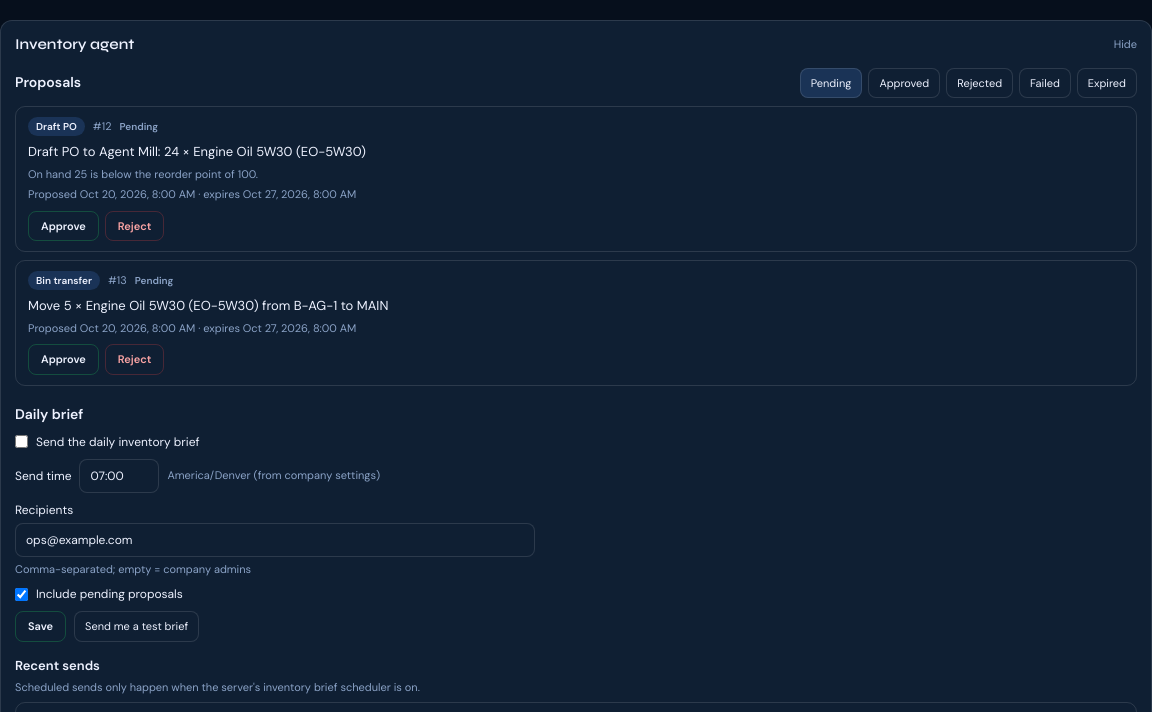
Scenario: InventoryAgentPanel › renders proposal cards and the status filter sends the param
Click the button "Failed": click(1045, 83) [1019,68,1071,98]
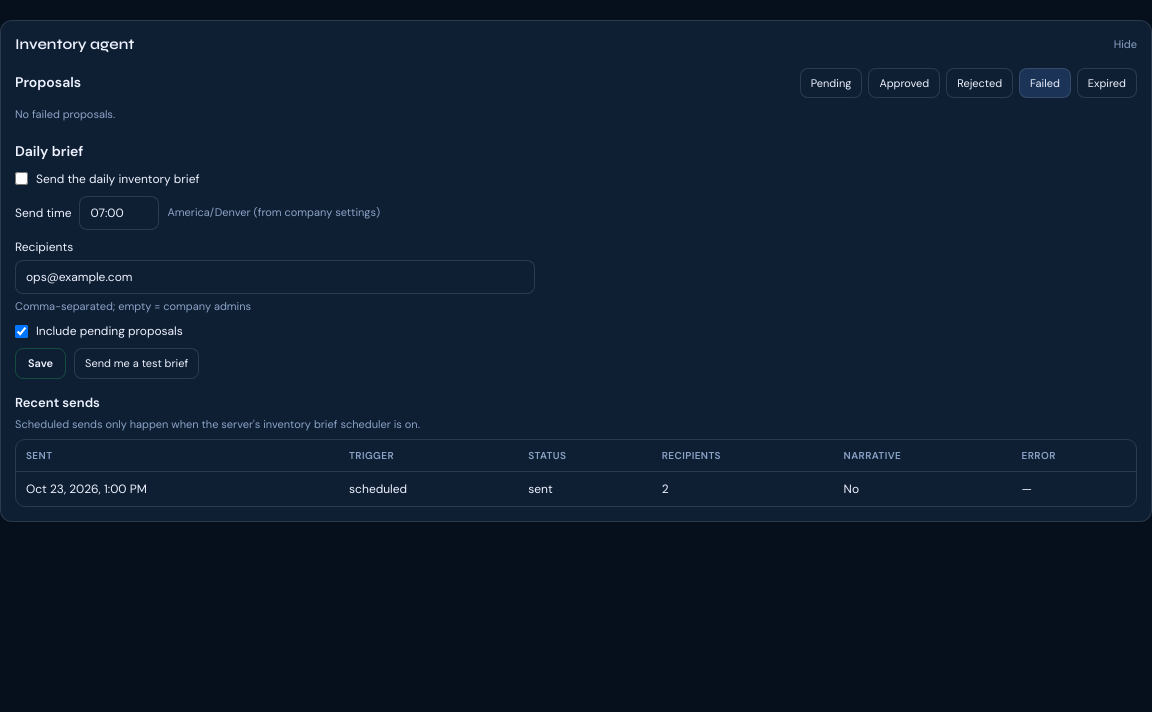
Result: the text "No failed proposals." is shown at [15,107,115,121]
Click the button "Pending": click(831, 83) [800,68,862,98]
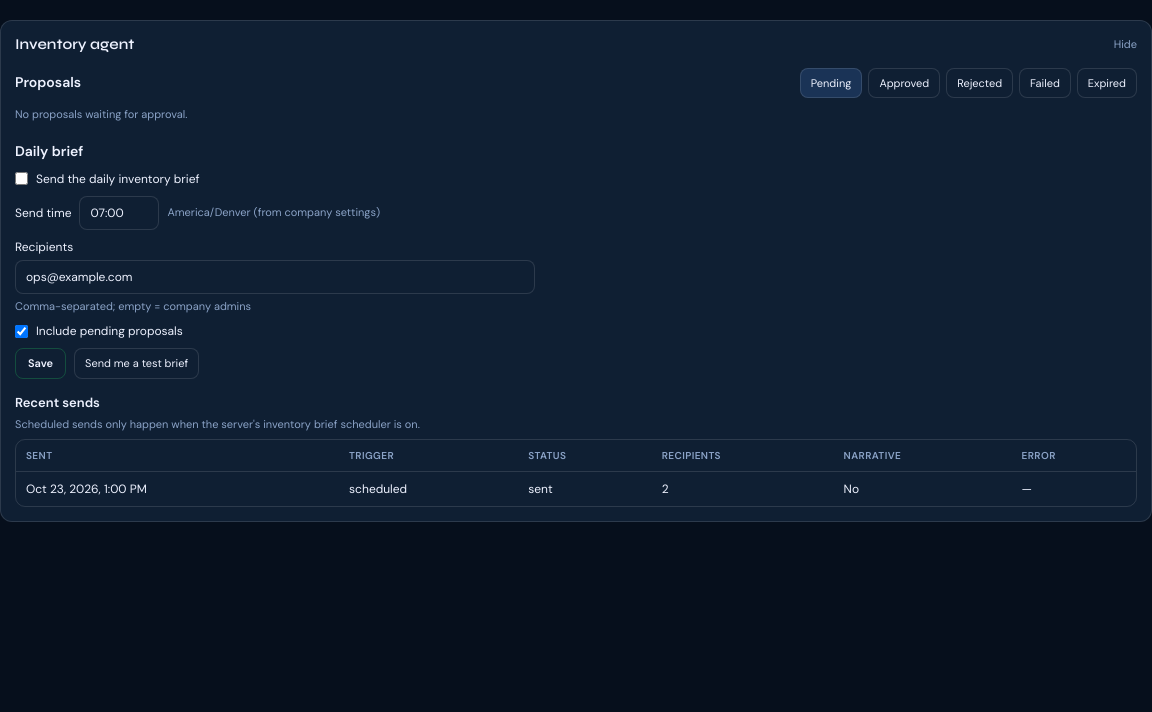
Result: the text "No proposals waiting for approval." is shown at [15,107,187,121]
